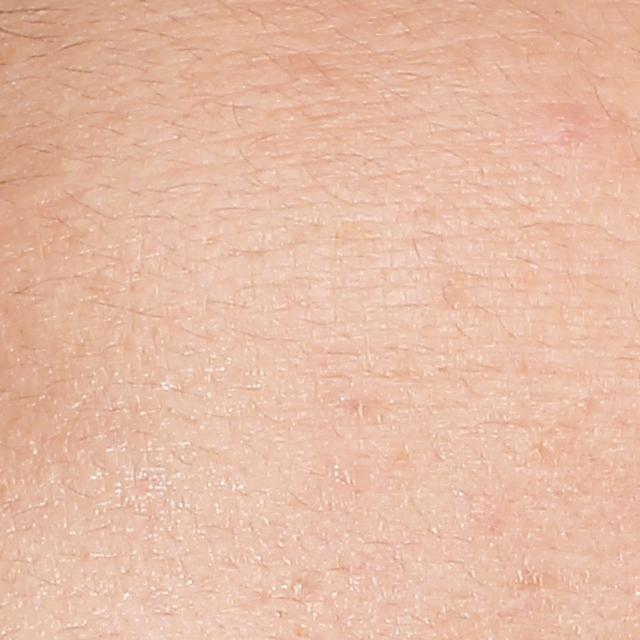papule: (546, 107, 578, 146)
